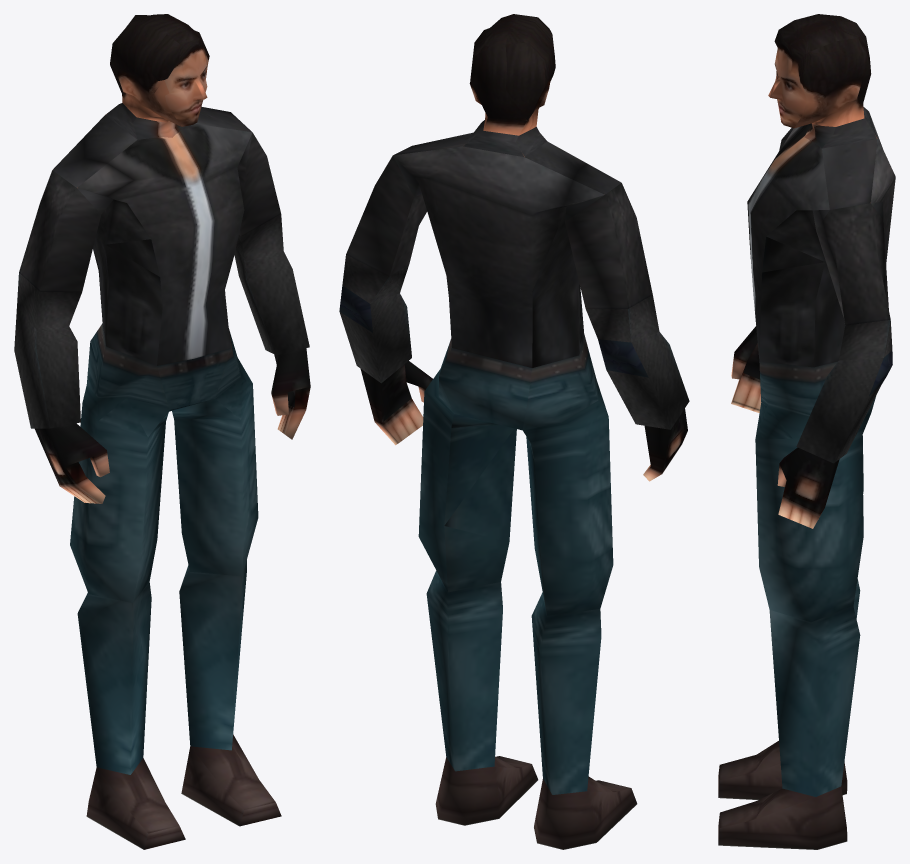
File: Manuel50.obj
The picture shows the model from 3 angles, left to right: view 1: azimuth 30°, elevation 25°; view 2: azimuth 150°, elevation 25°; view 3: azimuth 270°, elevation 25°; orthographic projection. The views are drawn at different scales.
Visible parts, largest first — view 1: leon; view 2: leon; view 3: leon.
Part boxes in pixels (x1,y1,x2,y2): leon: [14, 14, 310, 849]; leon: [339, 14, 689, 849]; leon: [718, 14, 895, 849].
Size of the model in its own units: 4.71 by 12.19 by 2.48.
1 material, 1 textured.
